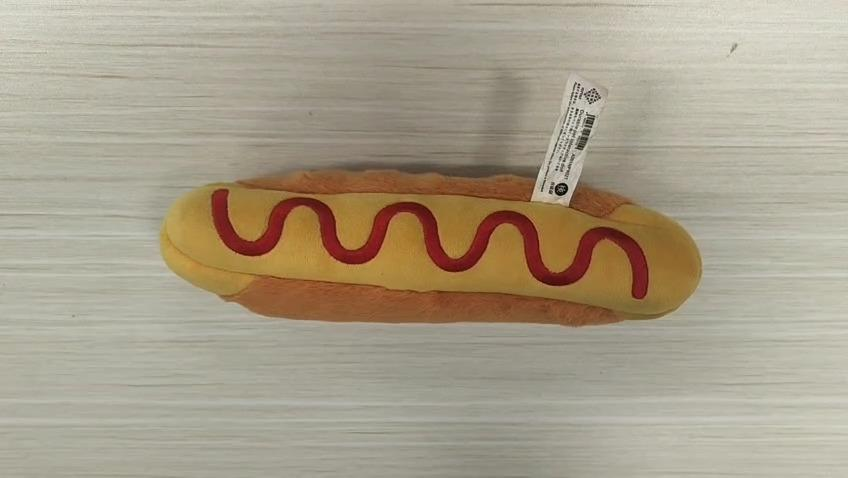hotdog: (159, 167, 703, 326)
